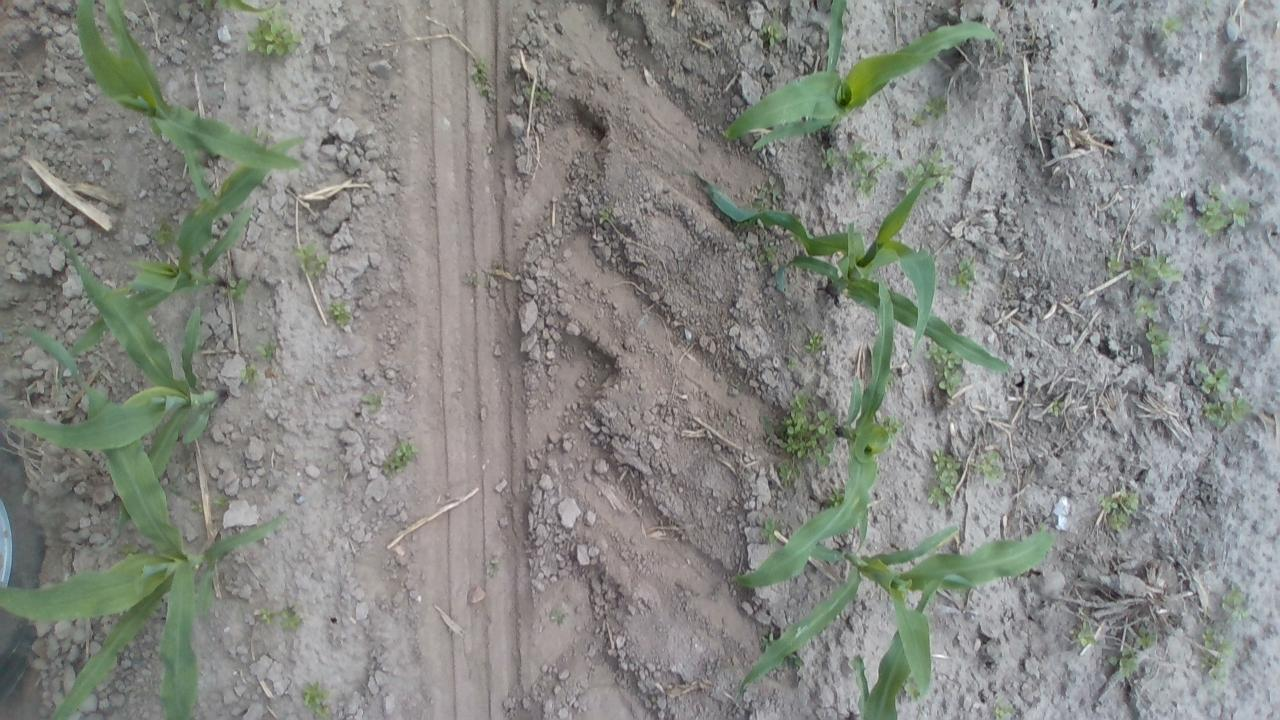Maize: (2, 321, 285, 720), (0, 218, 234, 558), (688, 166, 1018, 382), (56, 123, 309, 395), (732, 517, 1060, 710), (738, 266, 911, 584), (77, 0, 312, 195), (714, 8, 1005, 156), (846, 570, 990, 720), (822, 0, 849, 70)
Weeds: (764, 386, 844, 487), (820, 140, 890, 198), (1195, 182, 1254, 239), (242, 16, 302, 61), (924, 445, 964, 511), (1106, 252, 1186, 284), (926, 341, 964, 397), (1097, 486, 1143, 532), (901, 150, 954, 188), (1198, 397, 1258, 430), (1200, 621, 1242, 662), (379, 437, 419, 477), (1196, 361, 1236, 398), (290, 244, 332, 278), (1150, 192, 1186, 231), (300, 680, 335, 719), (1142, 324, 1176, 359), (468, 55, 497, 96), (752, 178, 788, 211), (1220, 585, 1252, 622), (974, 450, 1008, 484), (916, 93, 950, 124), (950, 257, 980, 292), (1204, 647, 1232, 684), (1110, 647, 1141, 678), (326, 298, 355, 328), (1070, 620, 1100, 649), (278, 601, 304, 634), (882, 414, 909, 444), (150, 218, 177, 247), (897, 667, 920, 701), (756, 515, 780, 547), (757, 19, 785, 46), (1130, 624, 1158, 650), (526, 79, 550, 109), (1133, 296, 1161, 321), (225, 276, 250, 304), (1160, 14, 1184, 40), (986, 699, 1018, 718), (754, 243, 780, 266), (804, 330, 826, 357), (256, 338, 280, 362), (362, 390, 386, 414), (1044, 396, 1068, 419), (547, 604, 569, 628), (238, 362, 258, 388), (826, 487, 848, 508), (482, 554, 502, 576), (462, 270, 486, 288), (758, 631, 778, 652), (596, 205, 614, 227), (118, 543, 146, 556), (212, 494, 232, 512), (1141, 134, 1166, 148), (784, 356, 802, 375), (258, 606, 274, 627), (790, 654, 809, 671), (1195, 319, 1213, 334), (189, 496, 203, 514), (1202, 0, 1218, 11), (634, 0, 641, 4)
